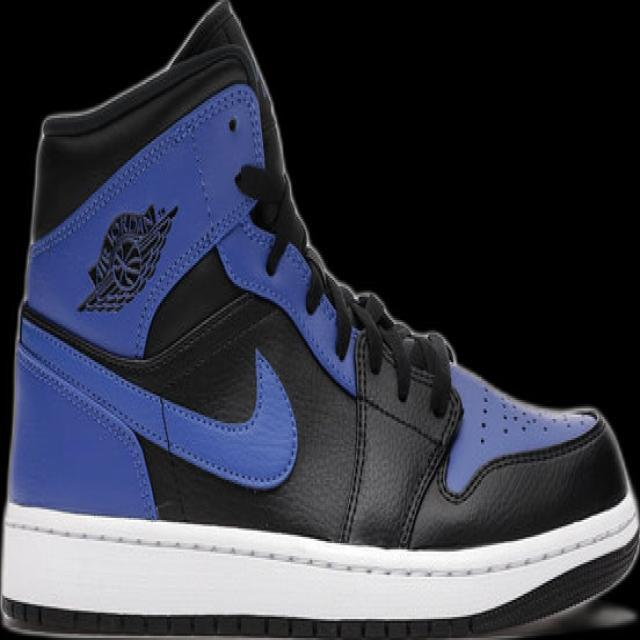J1_InsoleChar: (0, 0, 639, 639)
J1_ShoeLogo: (75, 201, 179, 314)
J1_StitchPattern: (300, 240, 603, 502), (234, 160, 457, 415), (2, 507, 639, 583), (337, 287, 460, 544), (300, 240, 457, 415), (1, 599, 470, 639), (337, 319, 374, 545), (474, 380, 596, 443), (300, 241, 365, 357), (349, 288, 416, 393), (405, 328, 457, 416), (476, 384, 543, 439), (474, 380, 492, 446)
